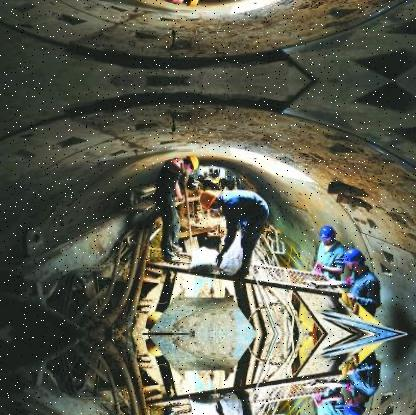helmet: (344, 247, 370, 275), (343, 391, 370, 413), (318, 222, 341, 247), (200, 188, 227, 208), (180, 153, 201, 172), (180, 0, 202, 8)
